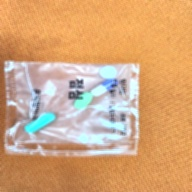러키펜정: (100, 66, 118, 80)
씨엠지세파클러캡슐: (91, 79, 118, 97)
에르도캡슐: (24, 113, 56, 135)
휴티렌정: (74, 92, 94, 110)
